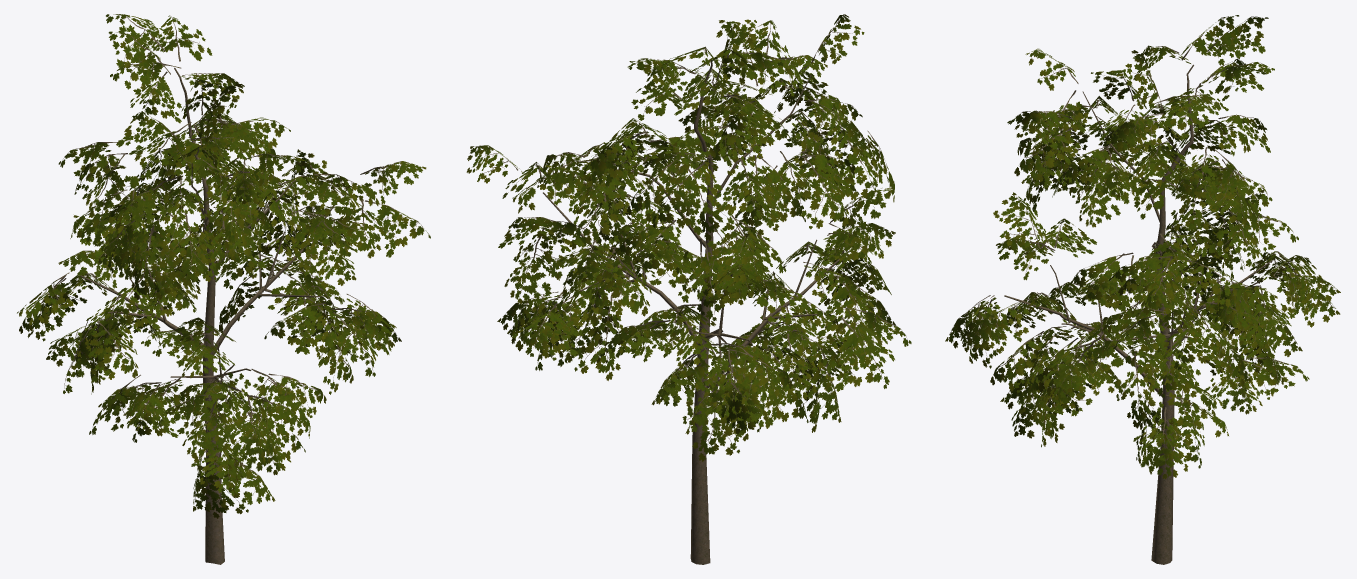
Rendered from maple_m2.glb.
3 views of the same model, side by side, from view 1: azimuth 30°, elevation 25°; view 2: azimuth 150°, elevation 25°; view 3: azimuth 270°, elevation 25° (orthographic). The views are drawn at different scales.
Parts seen in each view (by area): view 1: Acer_medium_2_LOD2_Cluster_Mat_0, Acer_medium_2_LOD2_Bark_Mat_0; view 2: Acer_medium_2_LOD2_Cluster_Mat_0, Acer_medium_2_LOD2_Bark_Mat_0; view 3: Acer_medium_2_LOD2_Cluster_Mat_0, Acer_medium_2_LOD2_Bark_Mat_0.
Boxes of the visible parts, x1,y1,x2,y2 form: Acer_medium_2_LOD2_Cluster_Mat_0: (17,14,430,518); Acer_medium_2_LOD2_Bark_Mat_0: (80,67,336,564); Acer_medium_2_LOD2_Cluster_Mat_0: (466,14,911,461); Acer_medium_2_LOD2_Bark_Mat_0: (543,60,839,564); Acer_medium_2_LOD2_Cluster_Mat_0: (945,15,1340,479); Acer_medium_2_LOD2_Bark_Mat_0: (1004,64,1272,564).
Size of the model in its own units: 7.33 by 10 by 6.93.
Materials: 2 (2 with a texture image).
